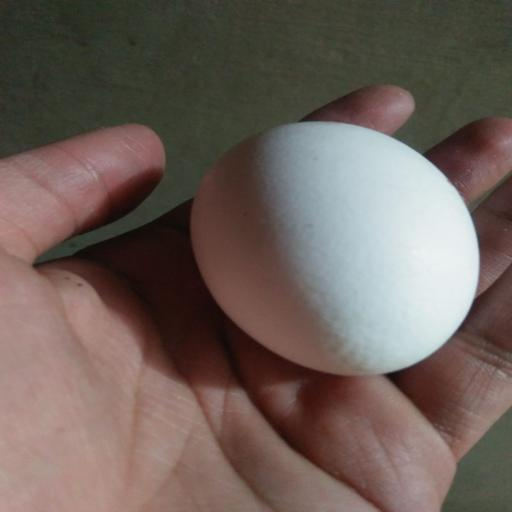telur: (176, 106, 496, 390)
